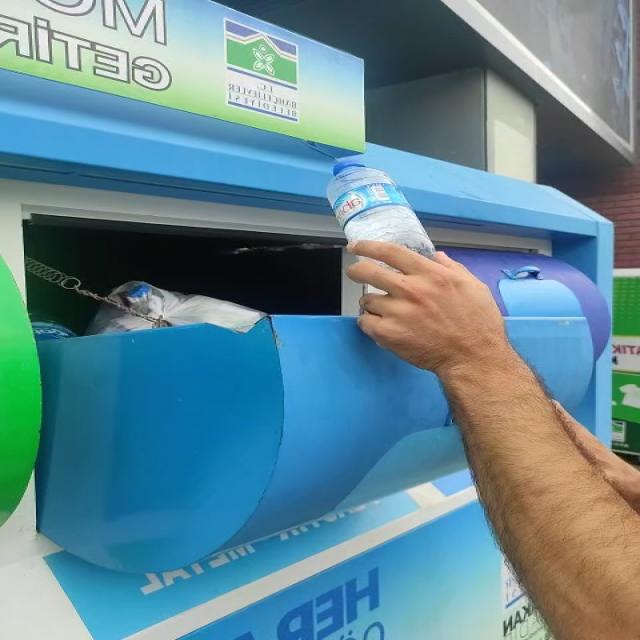plastic: (325, 162, 435, 257)
